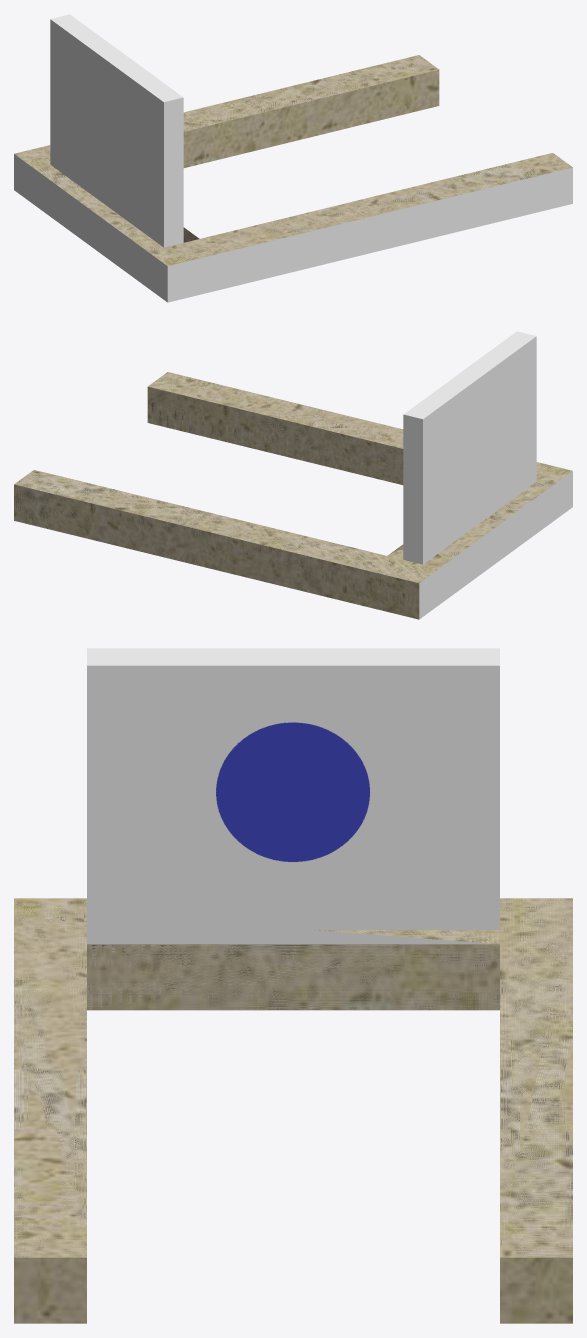
The model's file is dock_gate_green_triangle.dae.
3 views of the same model, one above another, from view 1: azimuth 30°, elevation 25°; view 2: azimuth 150°, elevation 25°; view 3: azimuth 270°, elevation 25° (orthographic). The views are drawn at different scales.
Visible parts, largest first — view 1: Component2 (×4); view 2: Component2 (×3); view 3: Component2 (×5), image_0.
Part boxes in pixels (left/top/right/bottom): Component2 (×4): left=14, top=14, right=572, bottom=302; Component2 (×3): left=14, top=331, right=572, bottom=619; Component2 (×5): left=14, top=648, right=572, bottom=1323; image_0: left=89, top=669, right=497, bottom=927.
Size of the model in its own units: 121 by 79.59 by 51.91.
